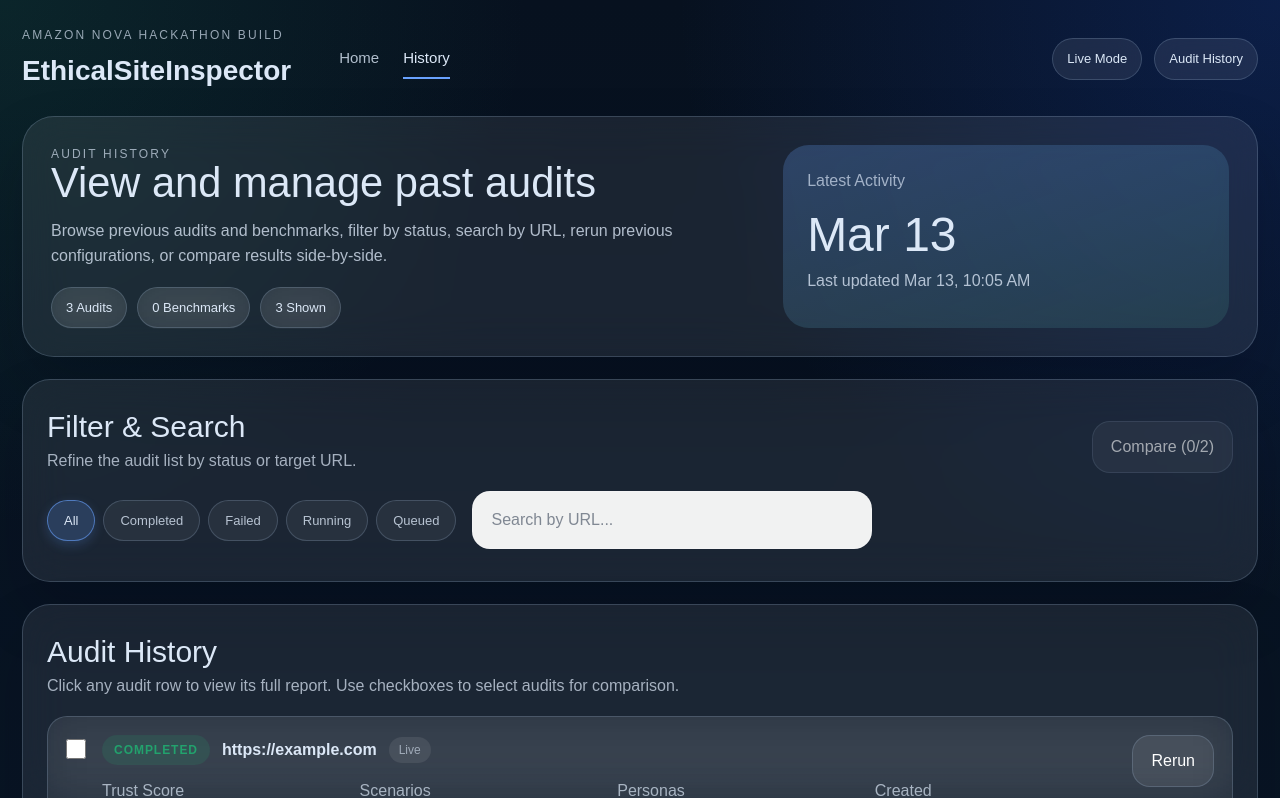
it: HistoryPage › enables compare button only when exactly 2 audits selected
Check: the text "https://example.com" is shown, box [222,738,377,762]
Check: the button "Compare (0/2)" is disabled, box [1092,421,1233,473]
What coordinates should you click on to do the following:
click the checkbox
I would click on:
 (76, 749)
Its box is [66,739,86,759].
(page scrolled)
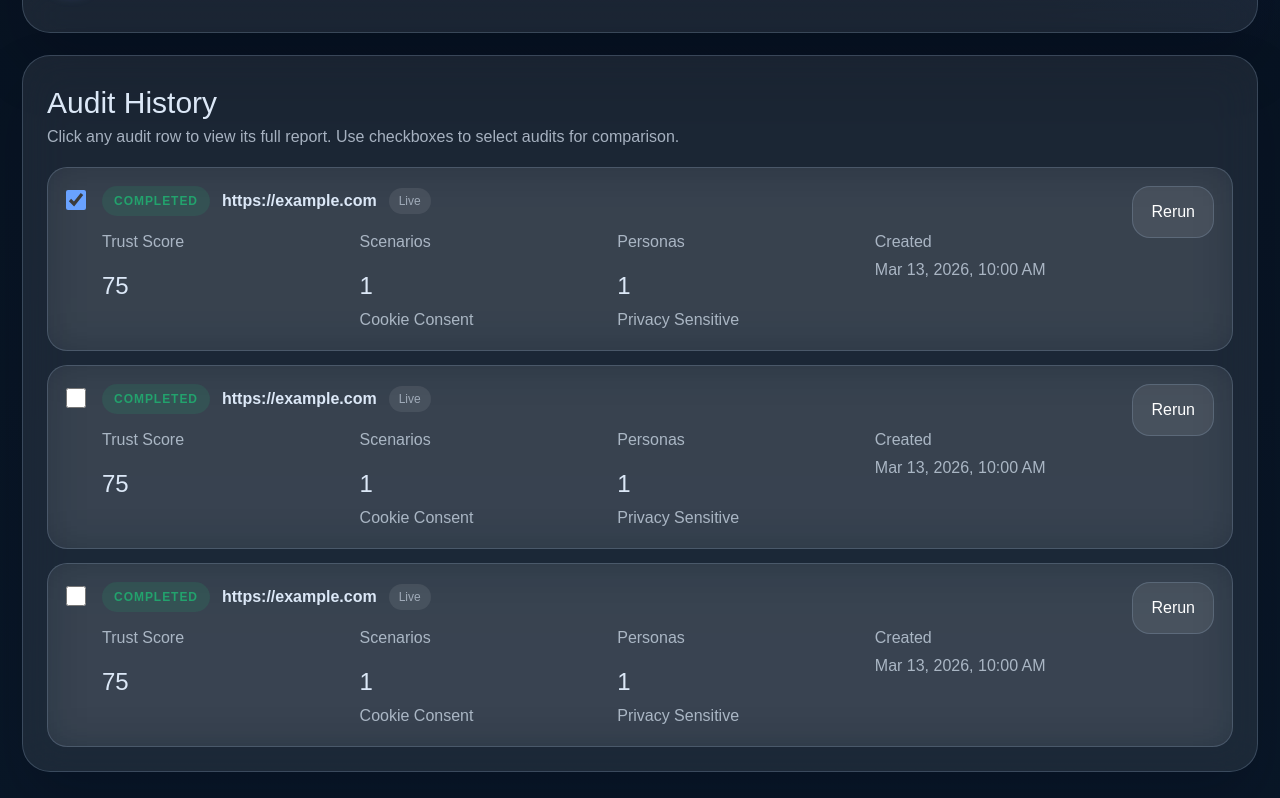
What coordinates should you click on to do the following:
click the checkbox named "Select audit audit-2"
I would click on:
 (76, 398)
Its box is [66,388,86,408].
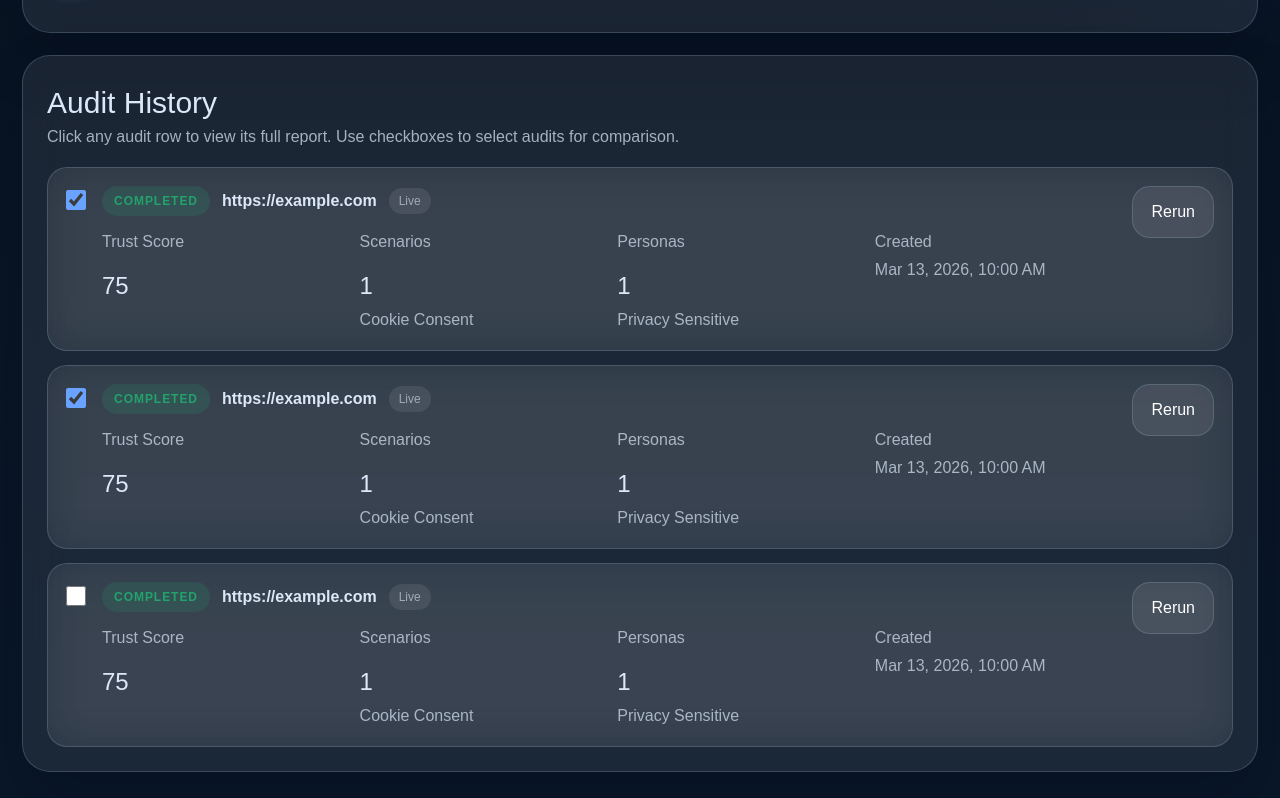
What coordinates should you click on to do the following:
click the checkbox named "Select audit audit-3"
I would click on:
 (76, 596)
Its box is [66,586,86,606].
(page scrolled)
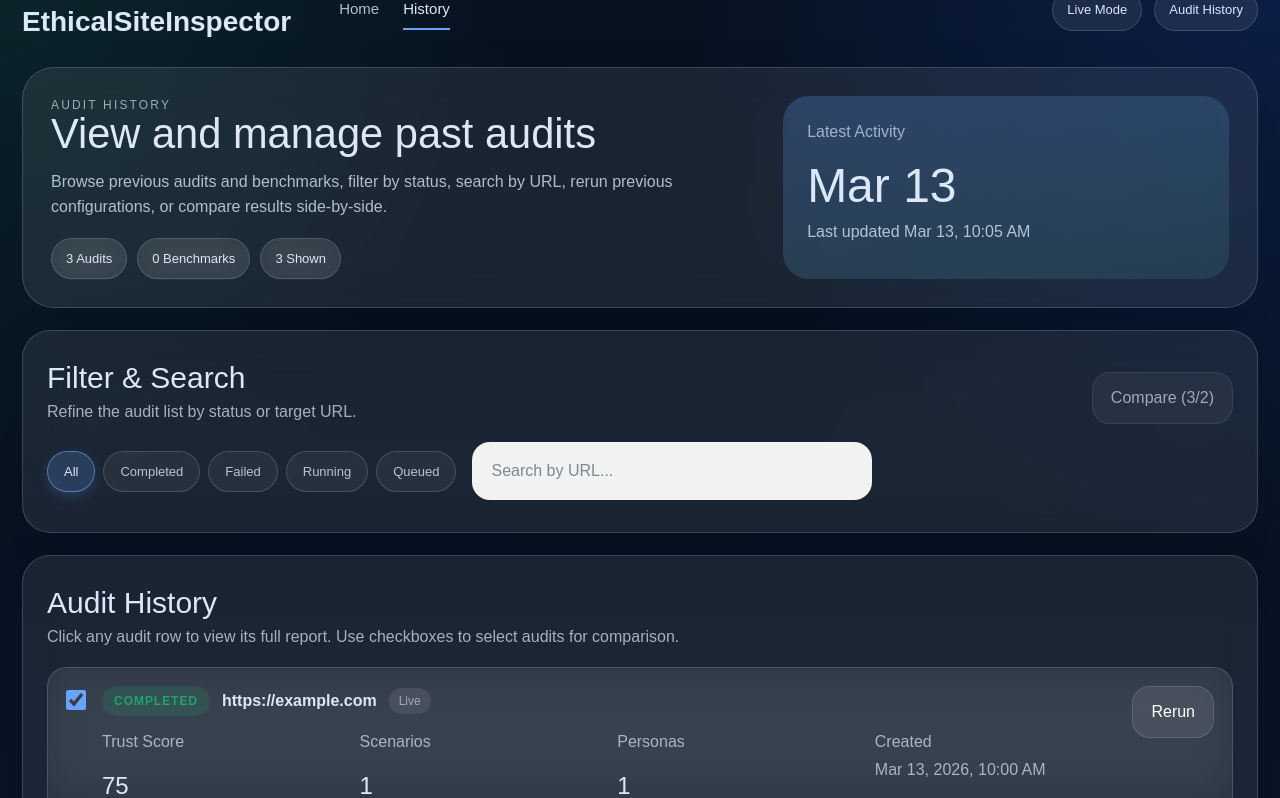
Check: the button "Compare (3/2)" is disabled, box [1092,372,1233,424]
